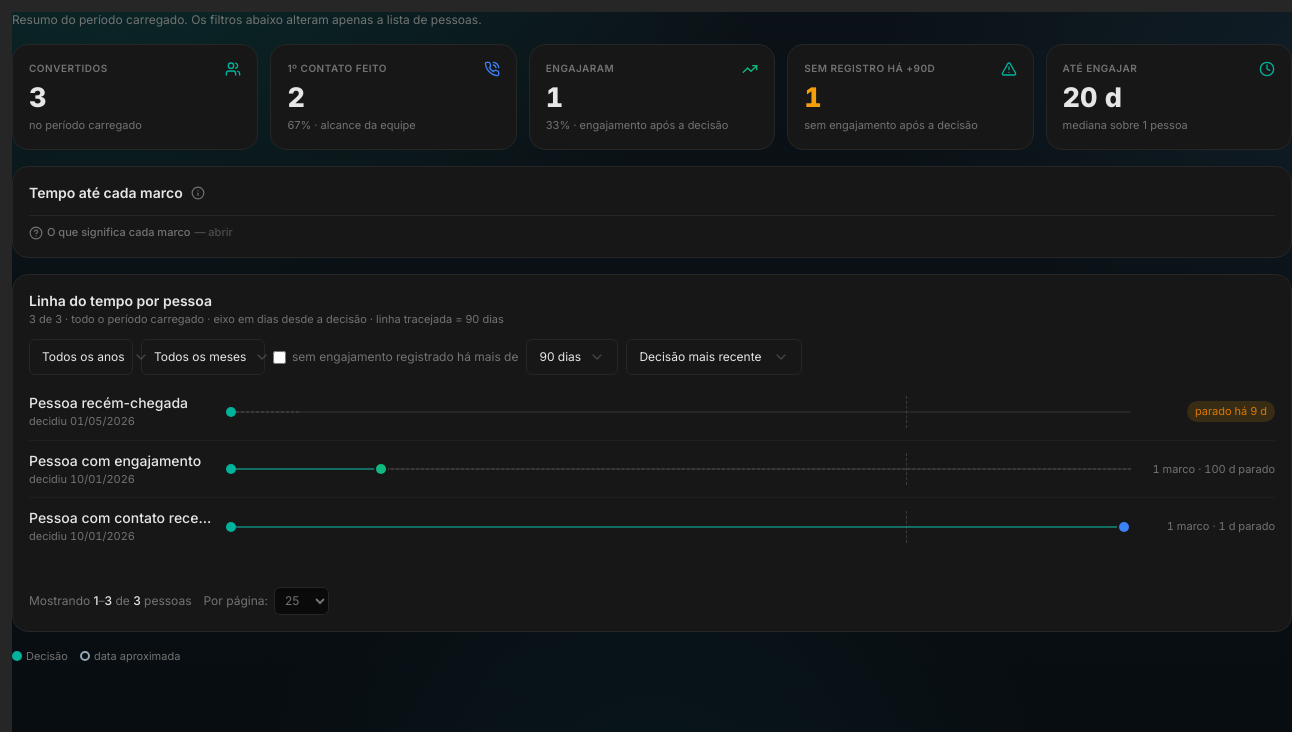
Test: JornadaTimeline · separa contato de engajamento › contato recente não reinicia o prazo de quem ainda não engajou
Click the checkbox at (280, 357), box x1=273 y1=351 x2=286 y2=364
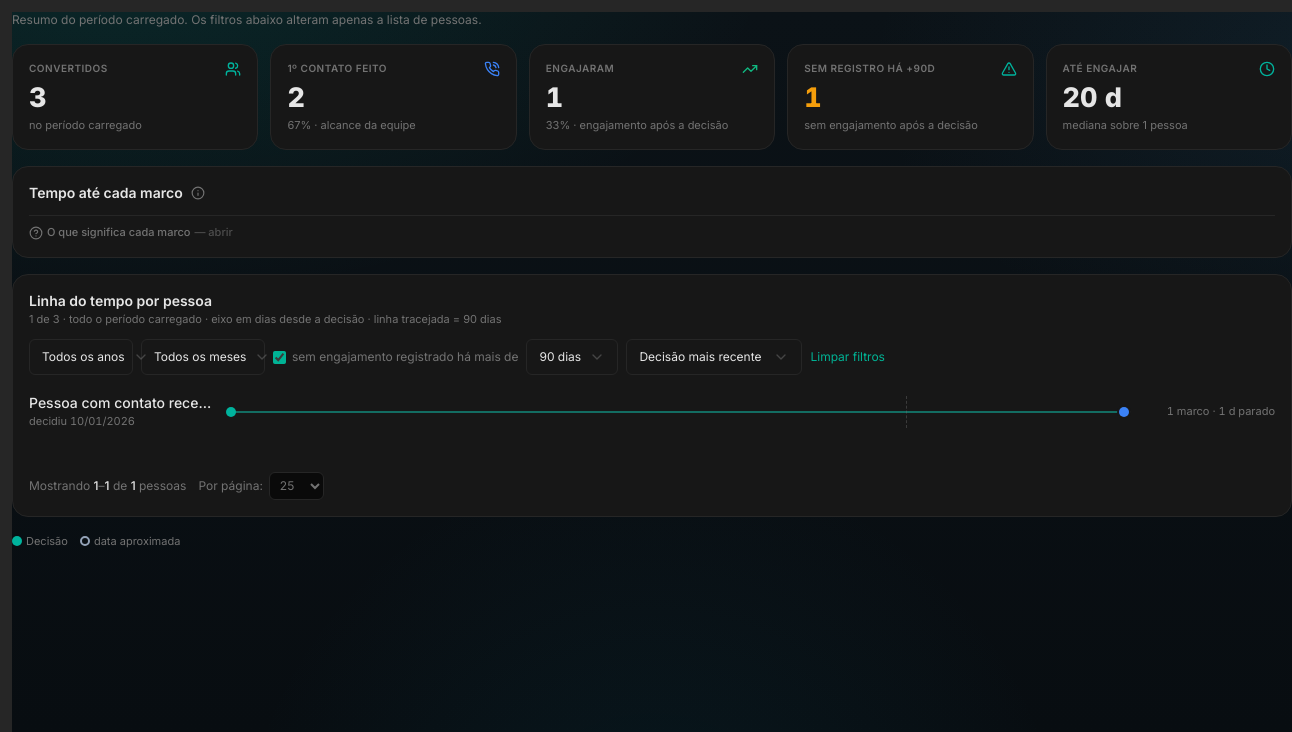
Expected: the text "Pessoa com contato recente" is shown, x1=29 y1=393 x2=219 y2=413
Expected: the text "Pessoa recém-chegada" is gone
Expected: the text "Pessoa com engajamento" is gone
